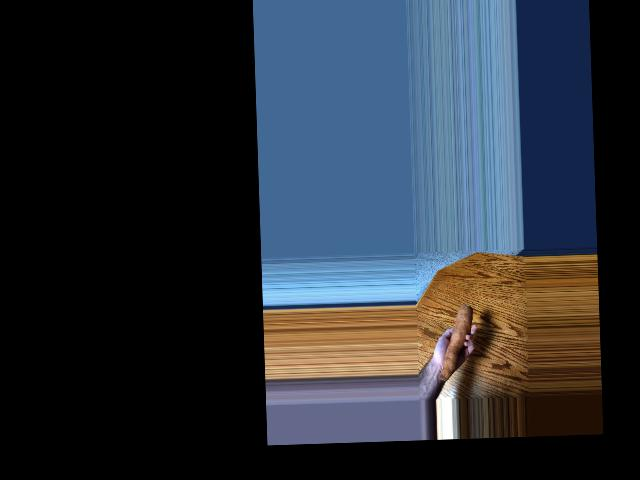sweet_potato: (435, 303, 476, 382)
